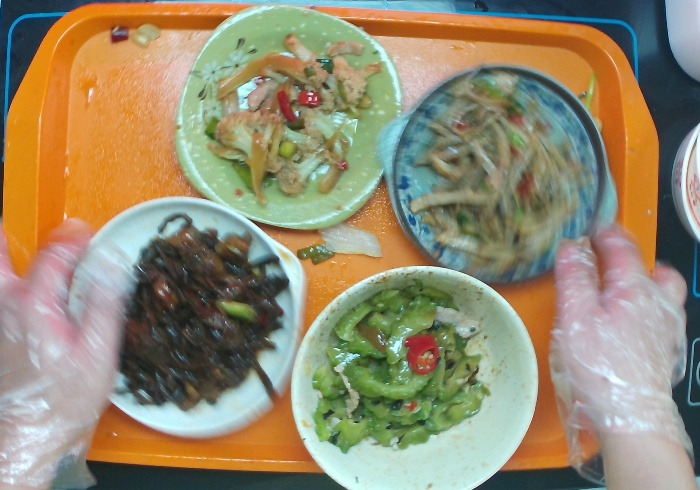NLDX-Bai_Se_Shuang_Er_Die: (62, 191, 310, 444)
NLDX-Bai_Se_Yuan_Wan: (285, 263, 541, 490)
NLDX-Lv_Hua_Fang_Die: (171, 1, 407, 233)
NLDX-Qing_Hua_Shuang_Er_Die: (373, 60, 624, 288)
